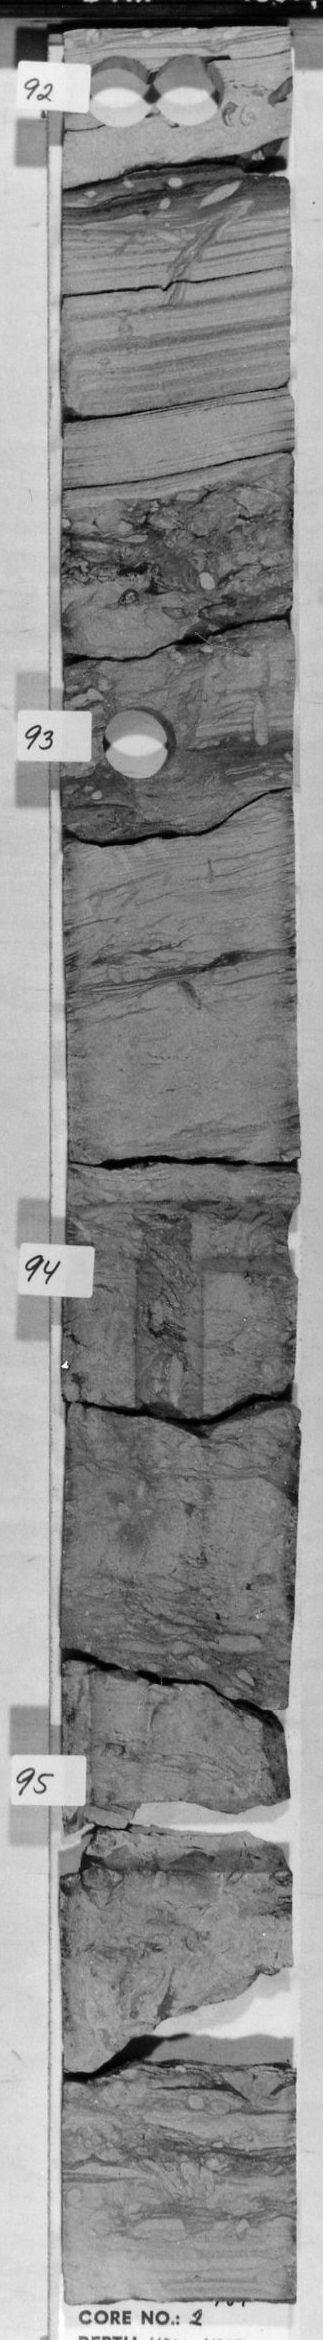hplug: (99, 704, 179, 783), (79, 54, 156, 130), (156, 57, 230, 127)
vplug: (126, 1249, 212, 1421), (79, 1662, 156, 1801)
